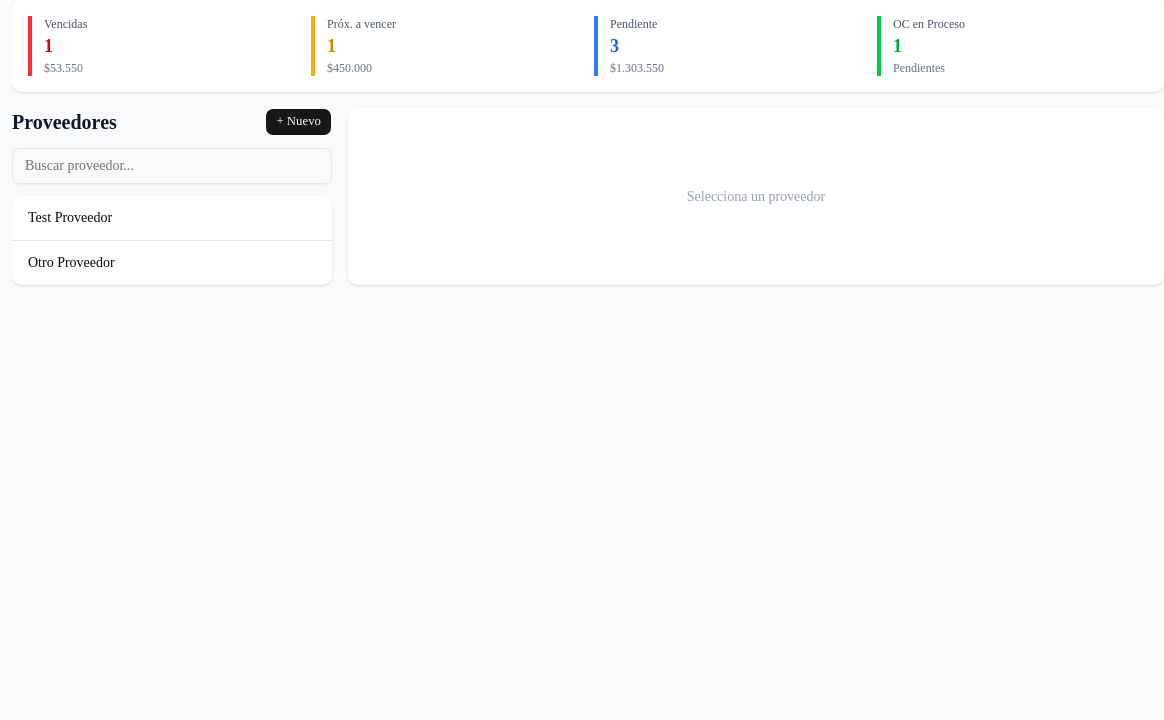
Test case: SuppliersPage - KPI Dashboard › KPI-07: al seleccionar un proveedor específico, los KPIs muestran SUS totales, no los globales
The image size is (1164, 720).
expect the text "Vencidas" is shown: met, box 44,17 -> 87,31
expect the text "$1.303.550" is shown: met, box 610,61 -> 664,75
Click the text "Otro Proveedor": {"x": 71, "y": 262} 28,255 -> 115,270
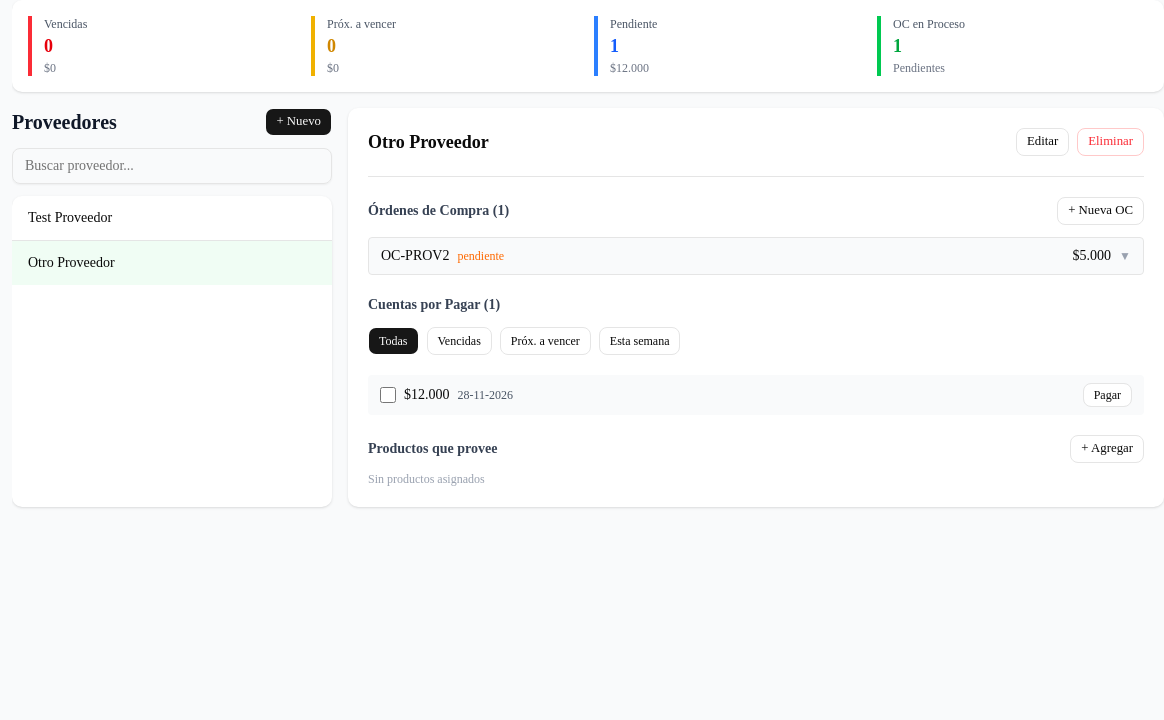
expect the text "$12.000" next to "Pendientes" is shown: met, box 610,61 -> 649,75
expect the text "$1.303.550" is gone: met
